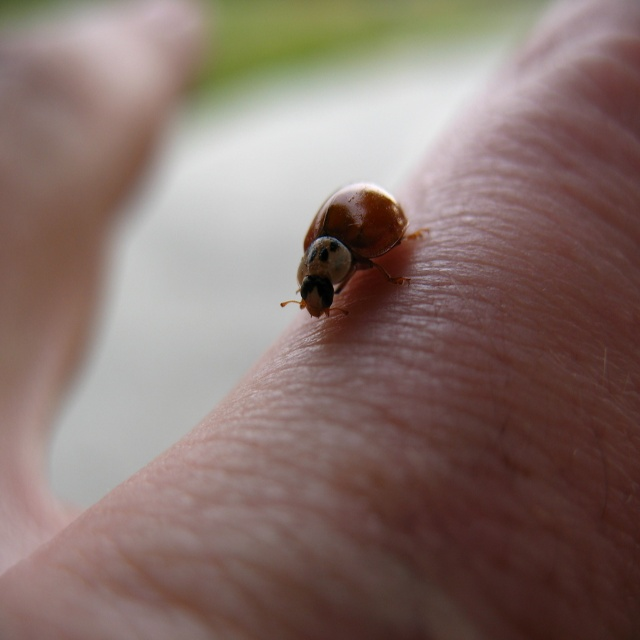Ladybug: (281, 181, 431, 318)
